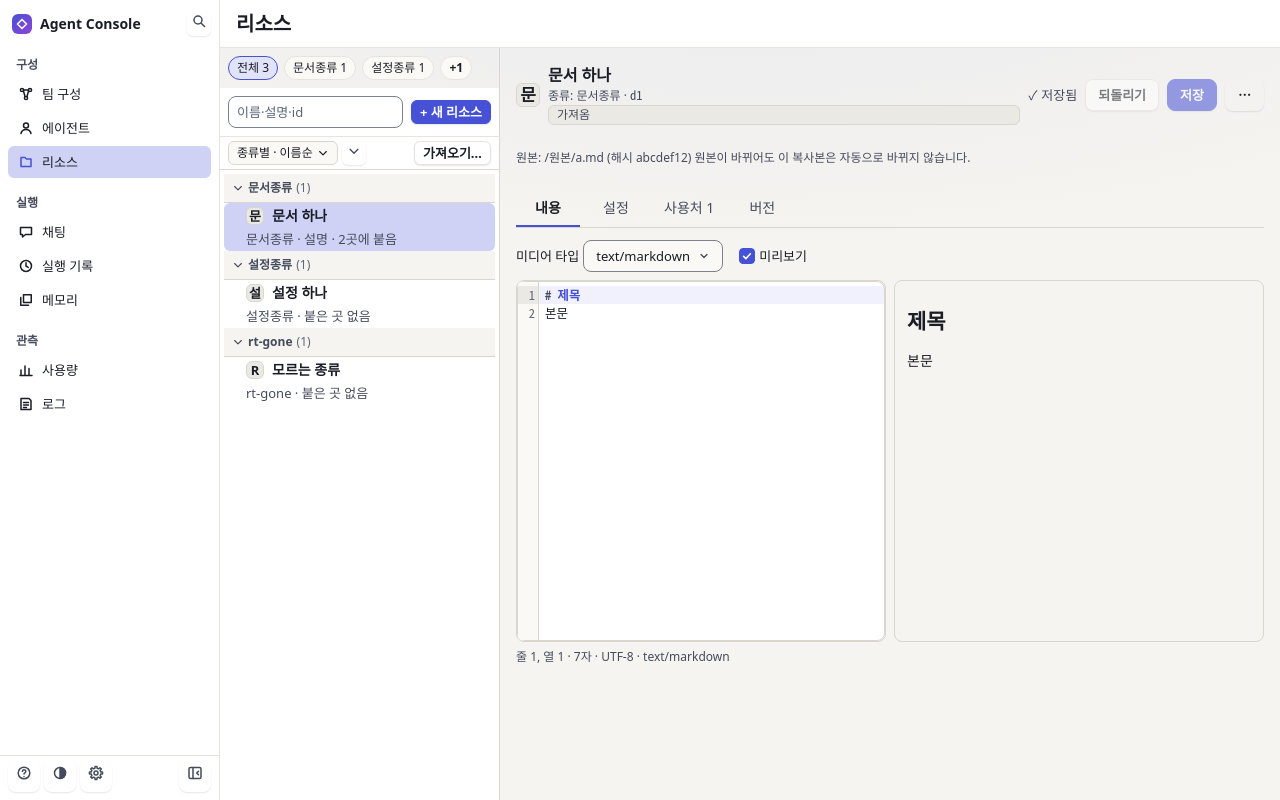
Test: 리소스 상세: 종류(디스크립터)가 탭 구성을 정한다 › 사용처 탭은 붙은 층과 팀 구성 링크를 보인다
Click the tab "사용처 1": [689, 209] box [652,191,726,227]
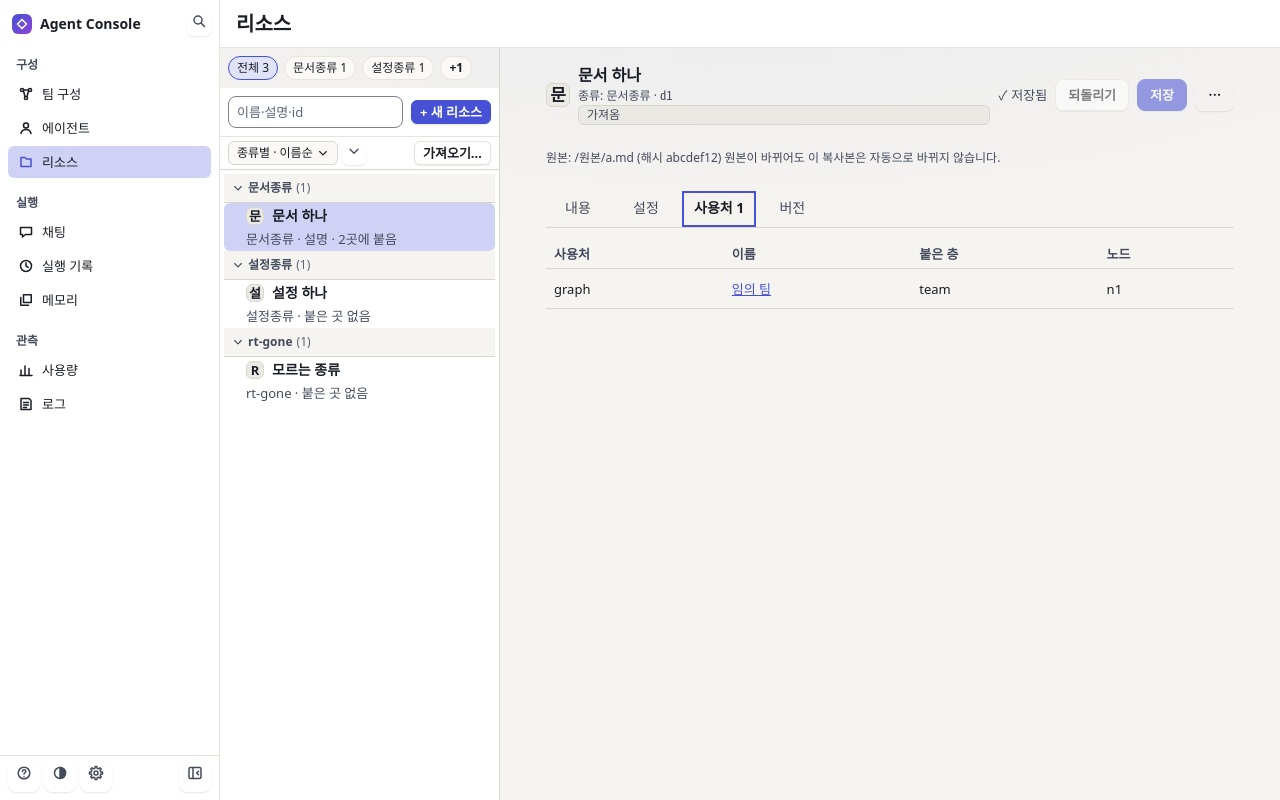
Check: the text "team" is shown, box [911,268,1099,308]
